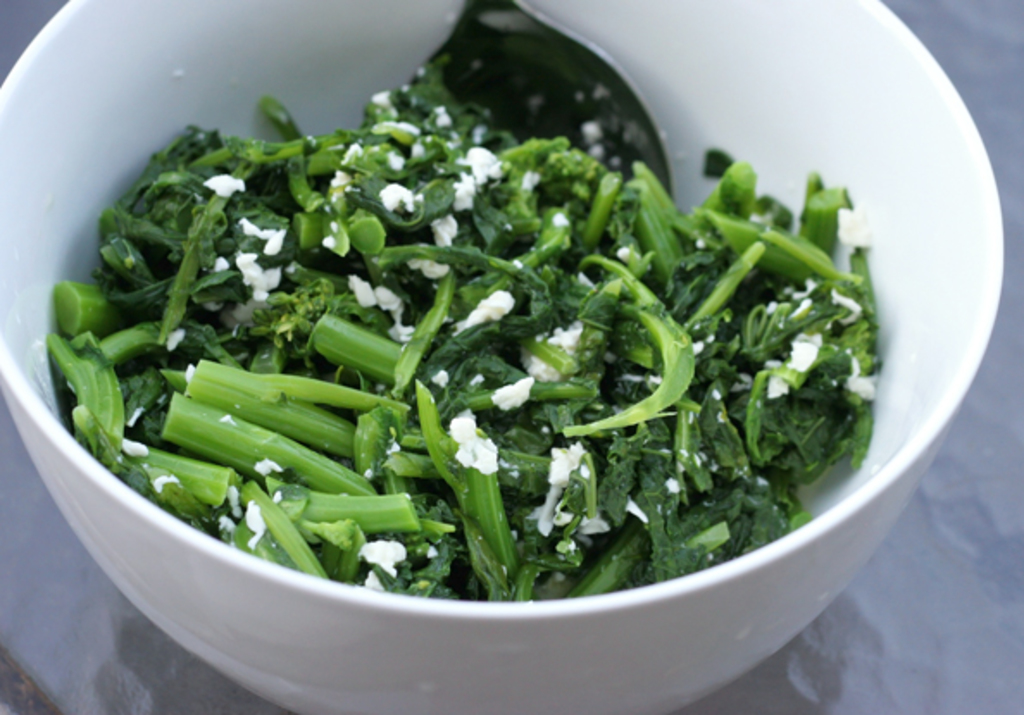salad: (19, 47, 876, 619)
